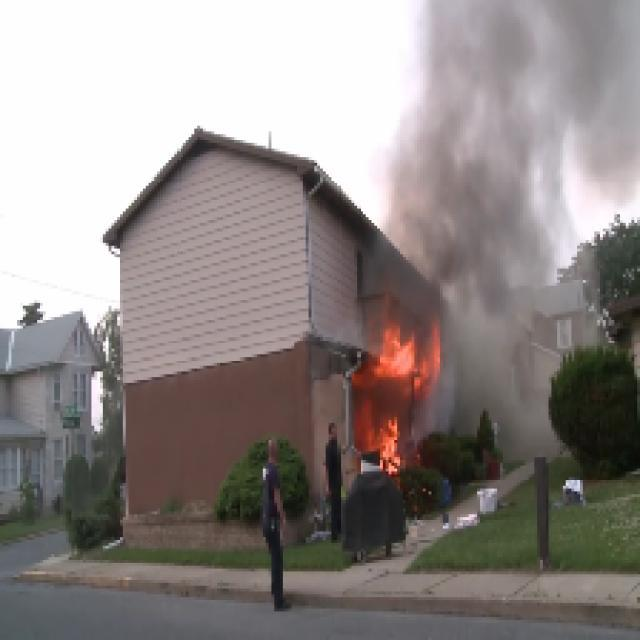Fire: (346, 292, 458, 514)
Smoke: (443, 2, 640, 534), (380, 0, 640, 343)
